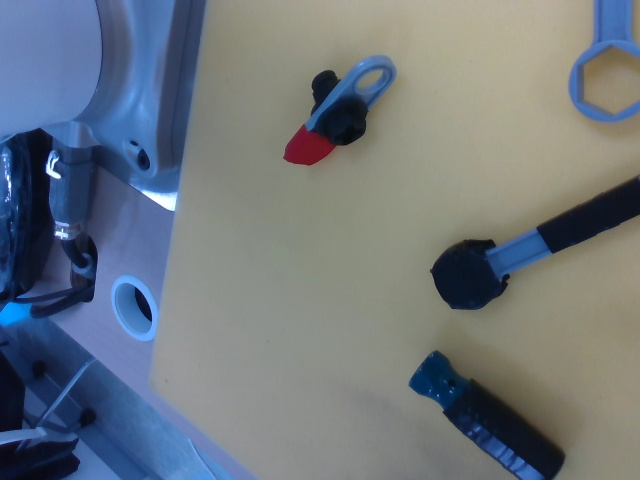part_1_good: (281, 52, 400, 169)
